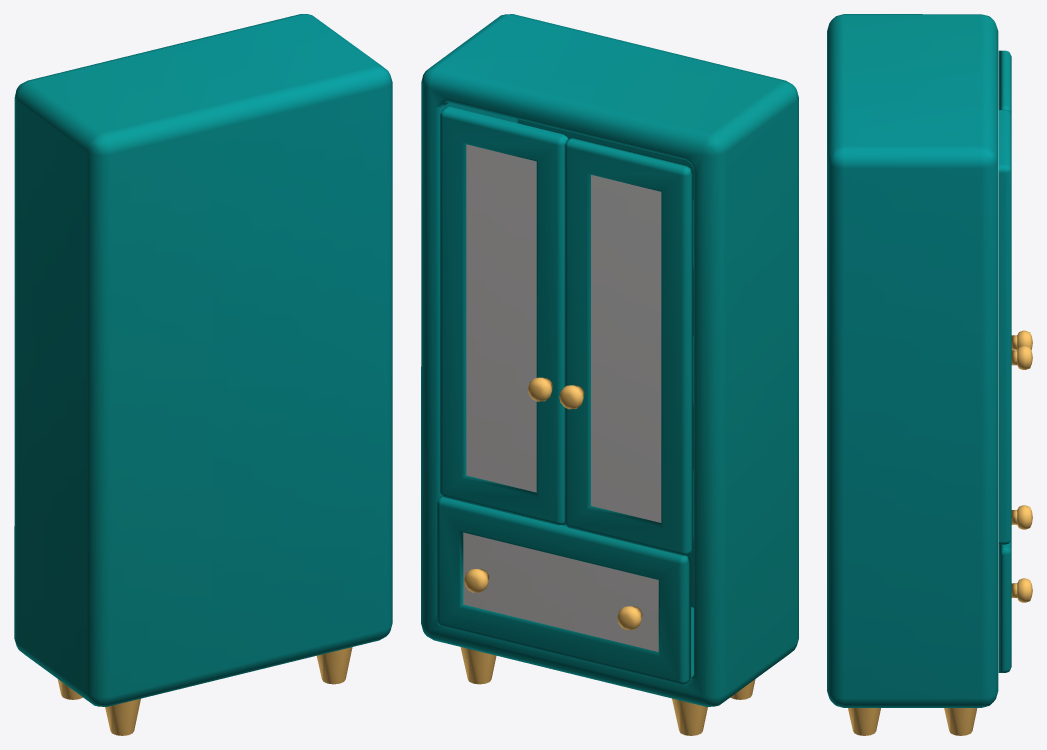
Rendered from Closet_06.fbx.
3 views of the same model, side by side, from view 1: azimuth 30°, elevation 25°; view 2: azimuth 150°, elevation 25°; view 3: azimuth 270°, elevation 25° (orthographic). The views are drawn at different scales.
Visible parts, largest first — view 1: Closet_06; view 2: Closet_06; view 3: Closet_06.
Boxes of the visible parts, x1,y1,x2,y2 form: Closet_06: (14,14,392,735); Closet_06: (421,14,798,735); Closet_06: (827,14,1032,735).
Bounding box in the file's own units: 200 × 388 × 120.
Materials: 1 (1 with a texture image).
